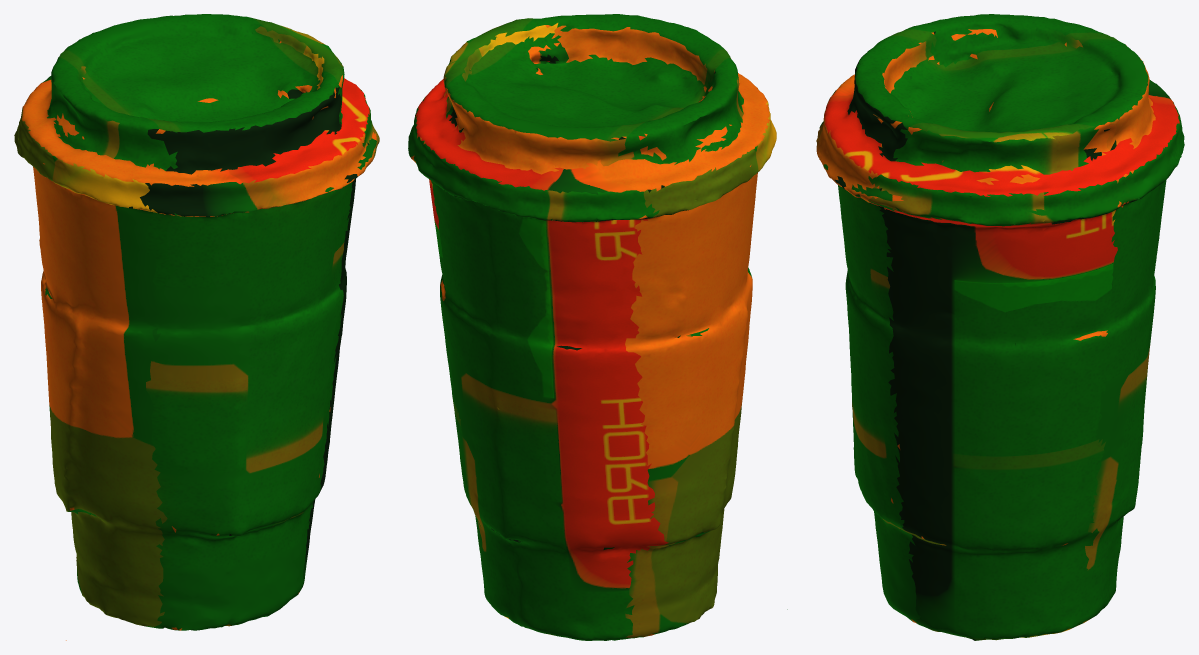
Rendered from starbucks_cup_scan.fbx.
3 views of the same model, side by side, from view 1: azimuth 30°, elevation 25°; view 2: azimuth 150°, elevation 25°; view 3: azimuth 270°, elevation 25° (orthographic). The views are drawn at different scales.
Parts seen in each view (by area): view 1: starbuckscupobjcleanermaterialmergergles; view 2: starbuckscupobjcleanermaterialmergergles; view 3: starbuckscupobjcleanermaterialmergergles.
Part boxes in pixels (box(x1,y1,x2,y2)): starbuckscupobjcleanermaterialmergergles: box(14, 14, 379, 640); starbuckscupobjcleanermaterialmergergles: box(408, 14, 787, 640); starbuckscupobjcleanermaterialmergergles: box(816, 14, 1184, 640).
Bounding box in the file's own units: 23.65 × 36.3 × 23.12.
1 material, 1 textured.
